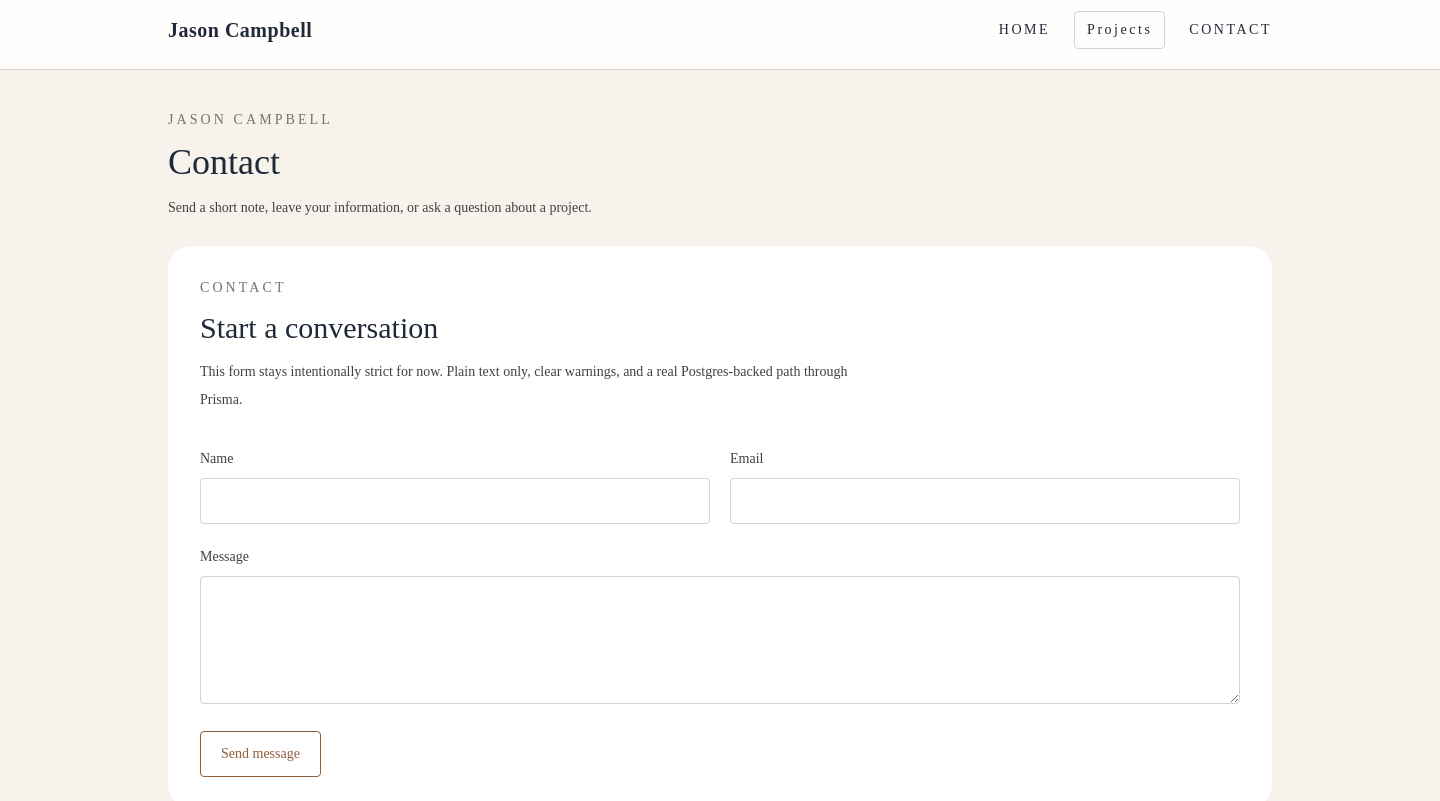
Test: shows validation warnings on the contact page
Step 1. Type "<script>" into the field labelled "Name" → (455, 501), box [200,478,710,524]
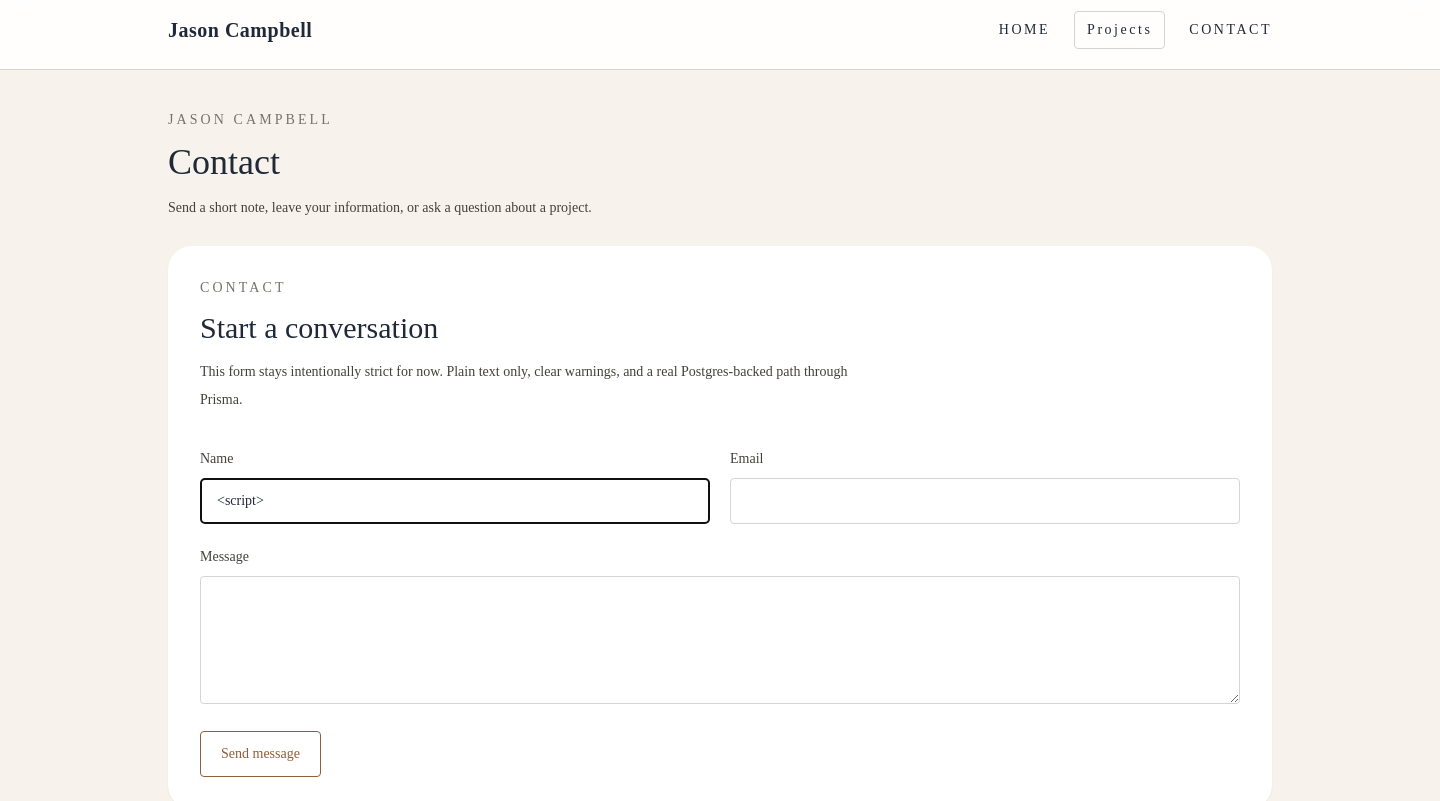
Step 2. Type "jason@campbell.dev" into the field labelled "Email" → (985, 501), box [730,478,1240,524]
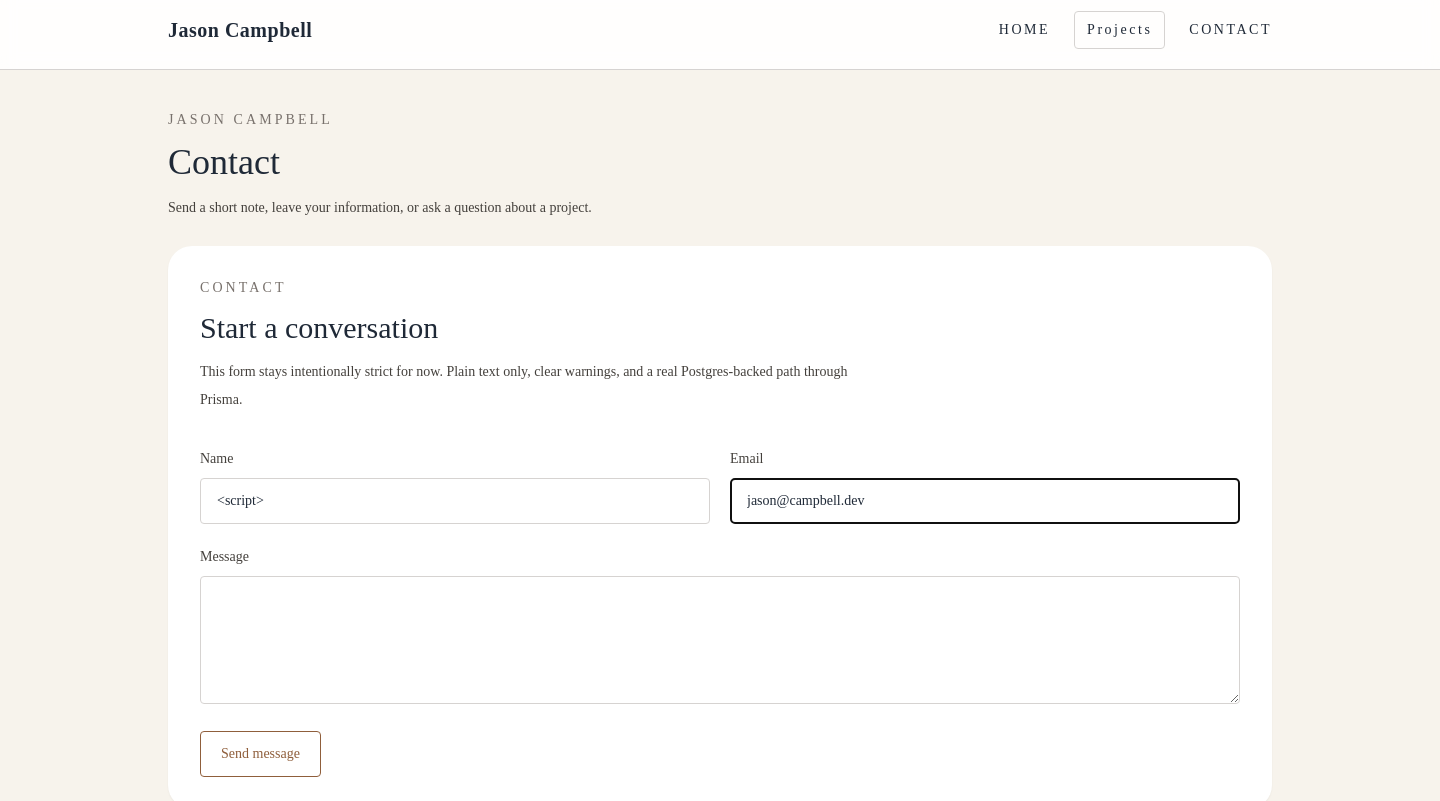
Step 3. Type "Portfolio note" into the text box labelled "Message" → (720, 640), box [200,576,1240,704]
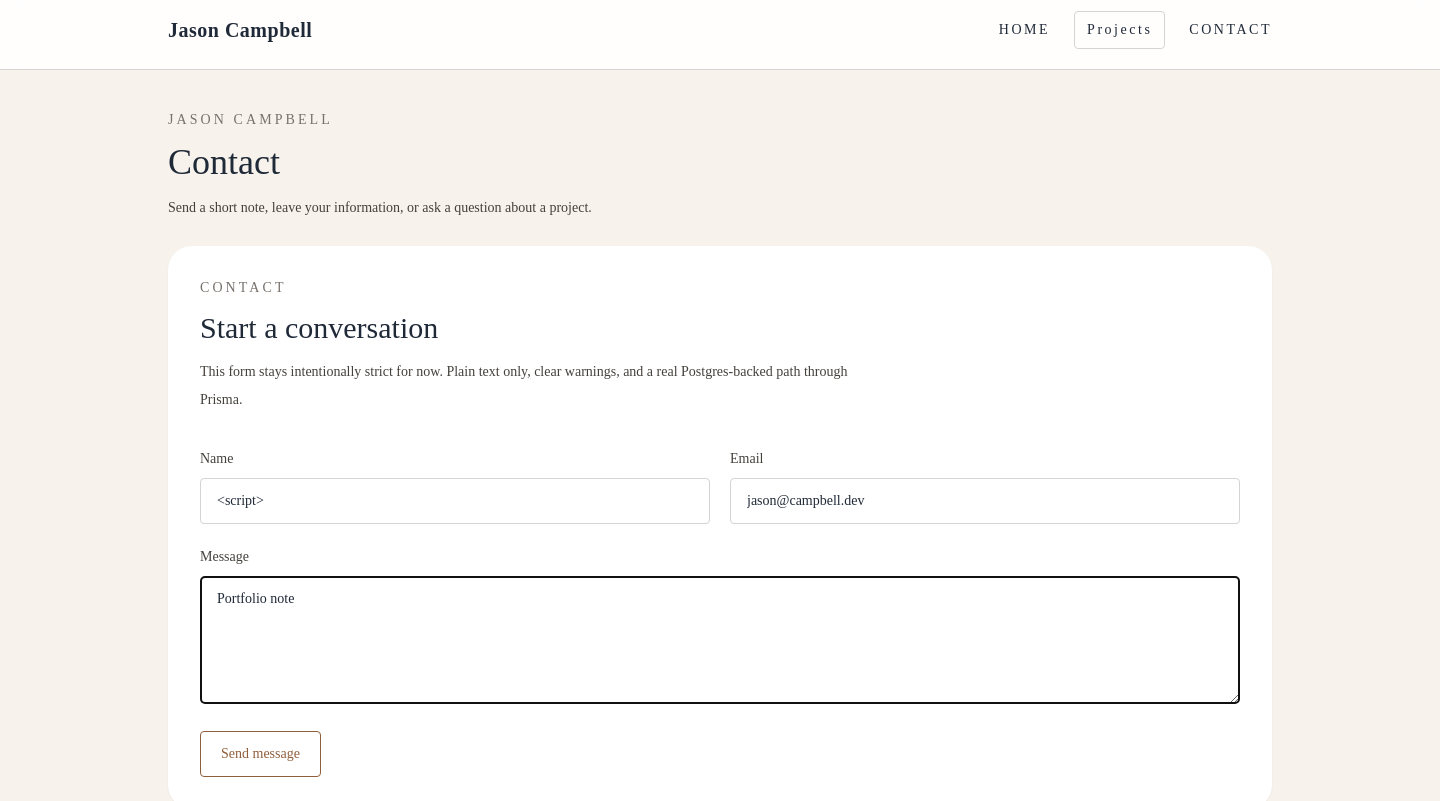
Step 4. Click the button "Send message" → (260, 754), box [200,731,321,777]
(page scrolled)
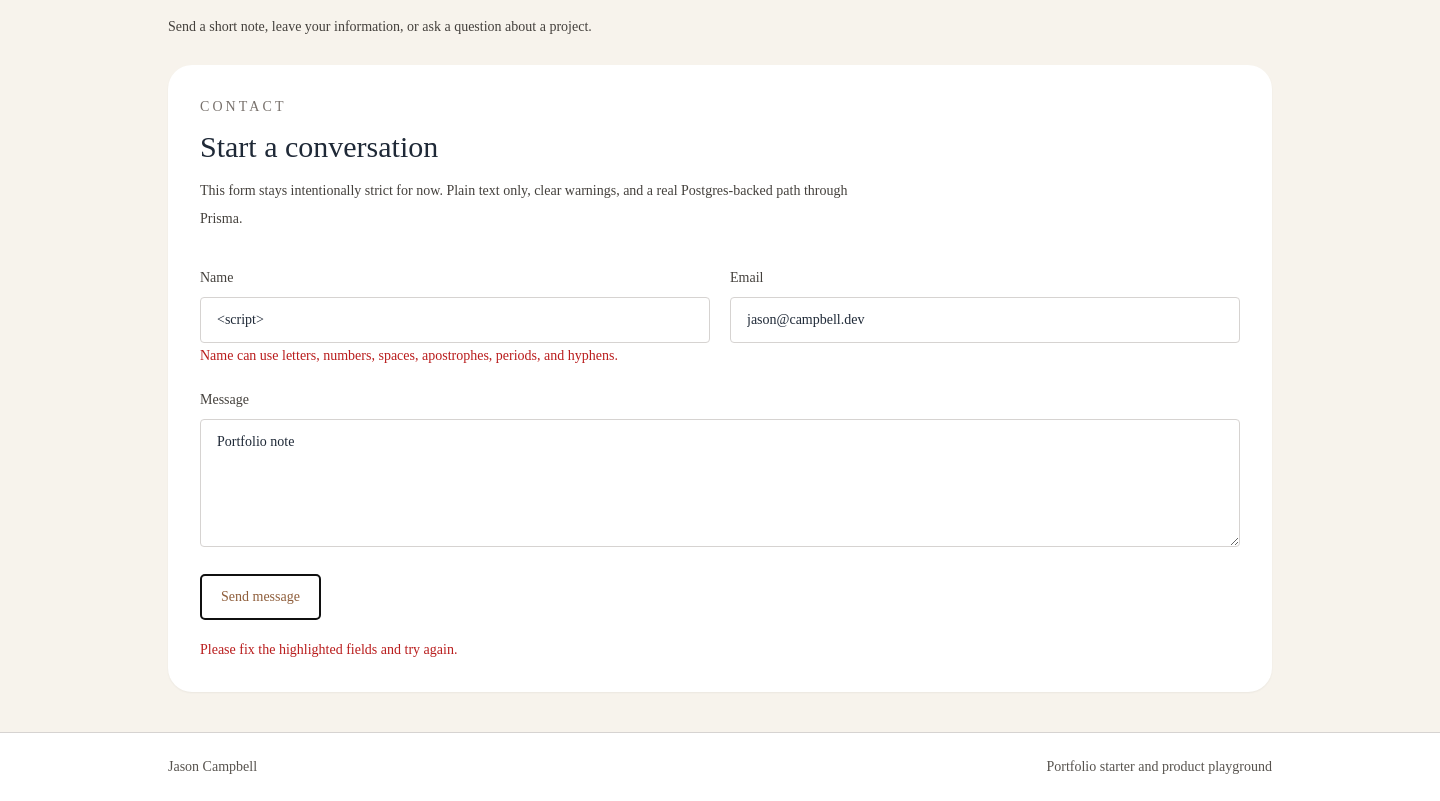
Check: the message shows "fix the highlighted fields", box [200,642,457,657]
